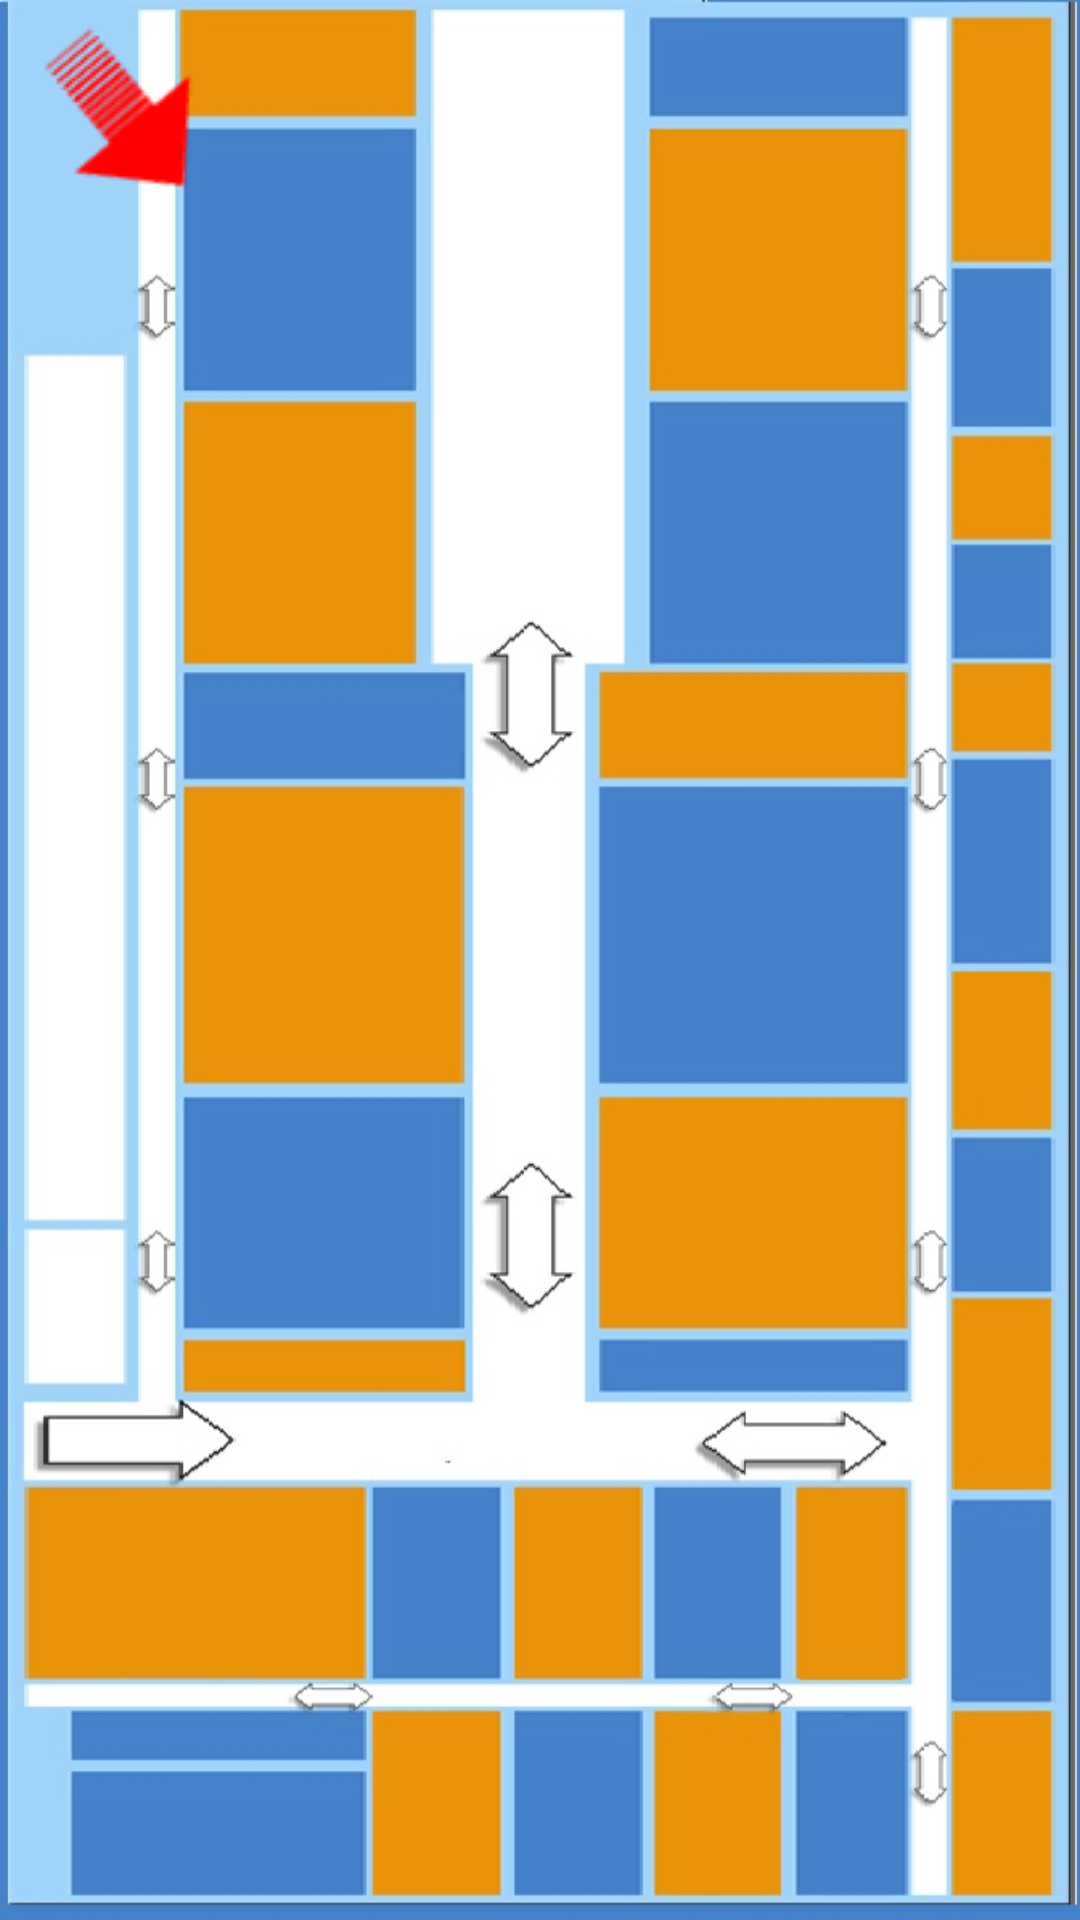

Icon click points for this 1080 × 1920 phone screenshot, format (x=x, y=y):
arrow: (x=112, y=121)
